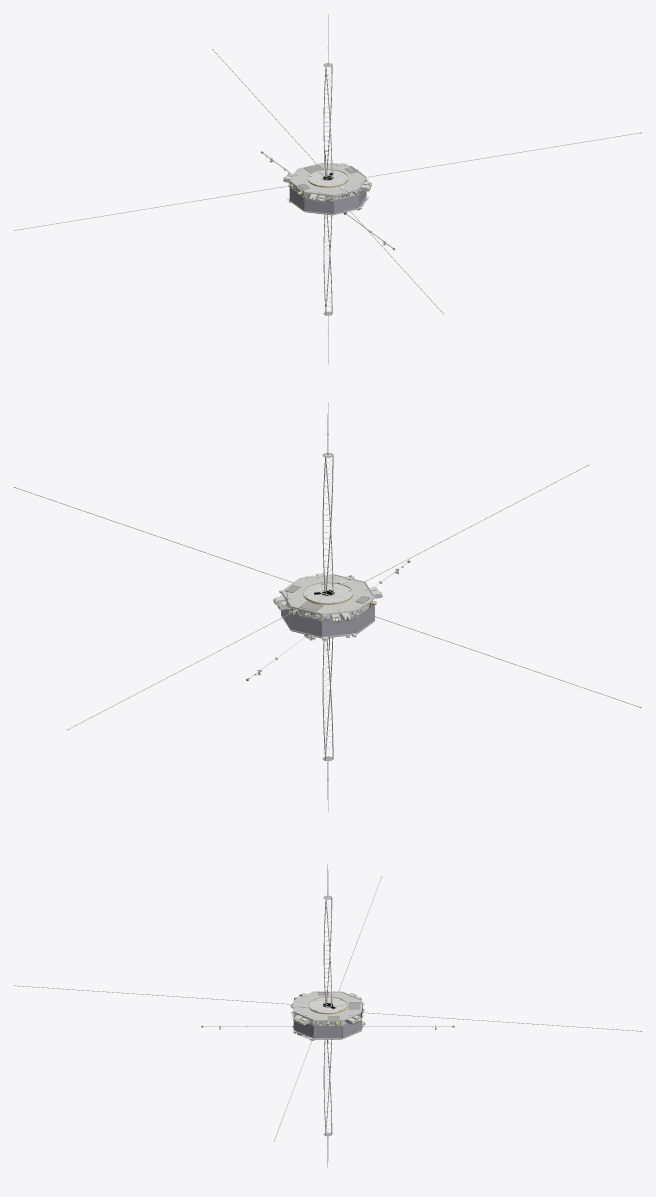
File: mms.glb
The picture shows the model from 3 angles, top to bottom: view 1: azimuth 30°, elevation 25°; view 2: azimuth 150°, elevation 25°; view 3: azimuth 270°, elevation 25°; orthographic projection. The views are drawn at different scales.
Parts seen in each view (by area): view 1: MainBus; view 2: MainBus; view 3: MainBus.
Boxes of the visible parts, x1,y1,x2,y2 form: MainBus: [14, 14, 641, 364]; MainBus: [14, 402, 641, 810]; MainBus: [14, 864, 641, 1167].
Bounding box in the file's own units: 14.51 × 8.51 × 14.51.
Materials: 3 (3 with a texture image).
